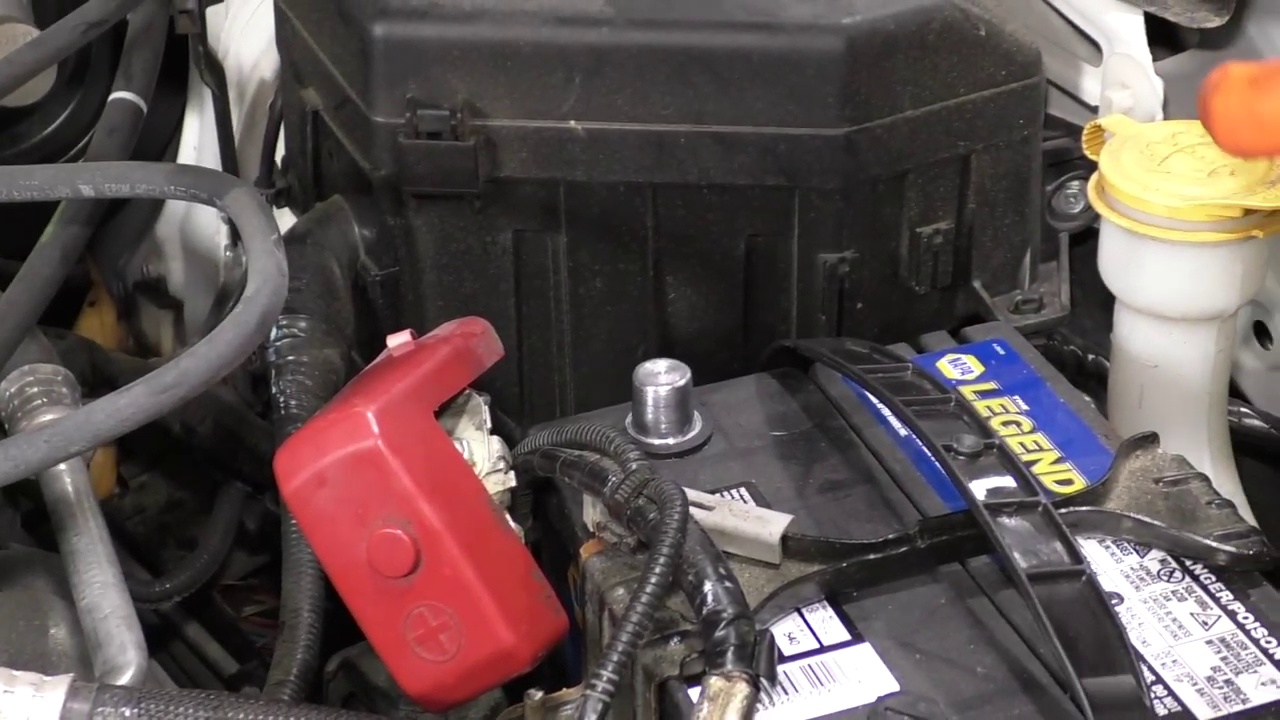battery: (517, 323, 1278, 720)
pos_disconnected: (312, 313, 728, 555)
